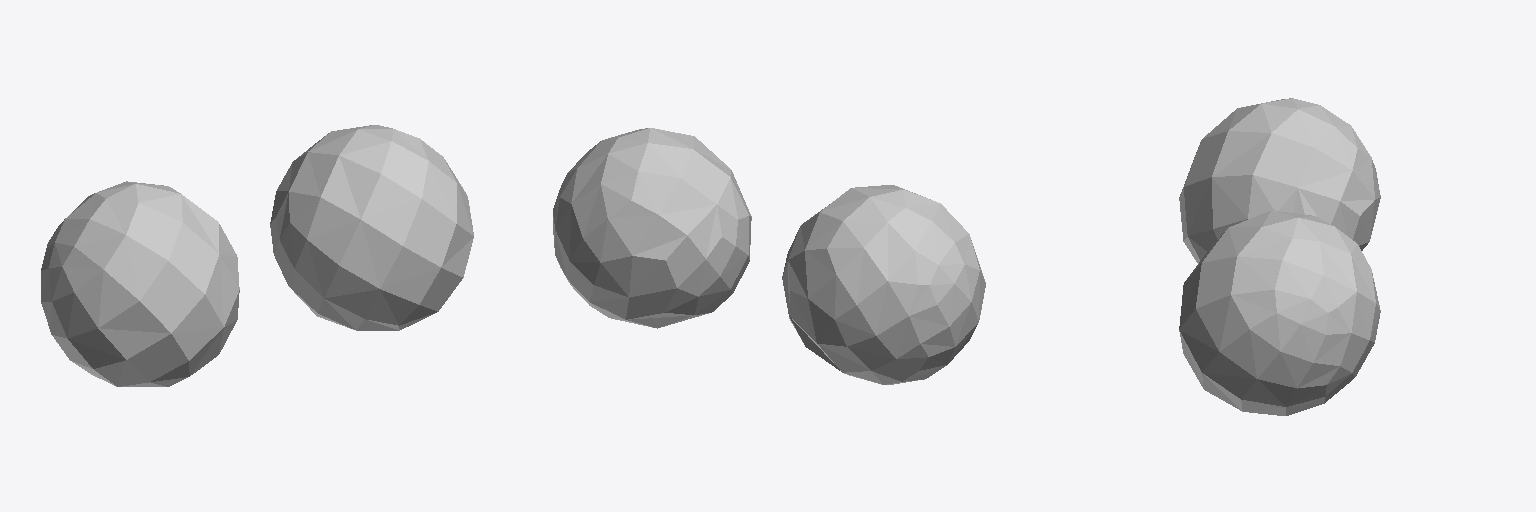
File: Eyes_MODEL.OBJ
3 renders of one model, left to right at view 1: azimuth 30°, elevation 25°; view 2: azimuth 150°, elevation 25°; view 3: azimuth 270°, elevation 25°, orthographic.
Visible parts, largest first — view 1: Group1; view 2: Group1; view 3: Group1.
Part boxes in pixels (bbox=[...]): Group1: bbox=[41, 125, 473, 386]; Group1: bbox=[553, 128, 985, 384]; Group1: bbox=[1179, 98, 1380, 415].
Size of the model in its own units: 0.2073 by 0.0901 by 0.0888.